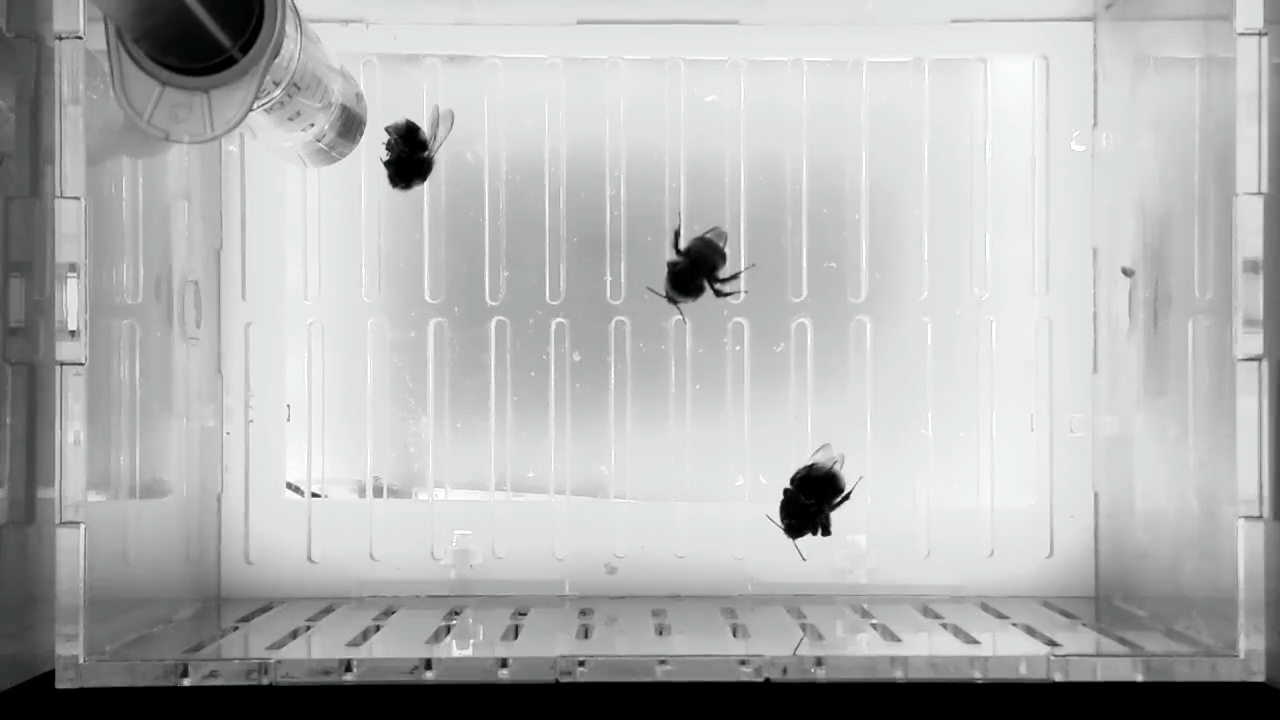bee_dead: (642, 208, 758, 327), (762, 441, 868, 564), (378, 102, 457, 194)
feeder: (240, 18, 371, 173)
